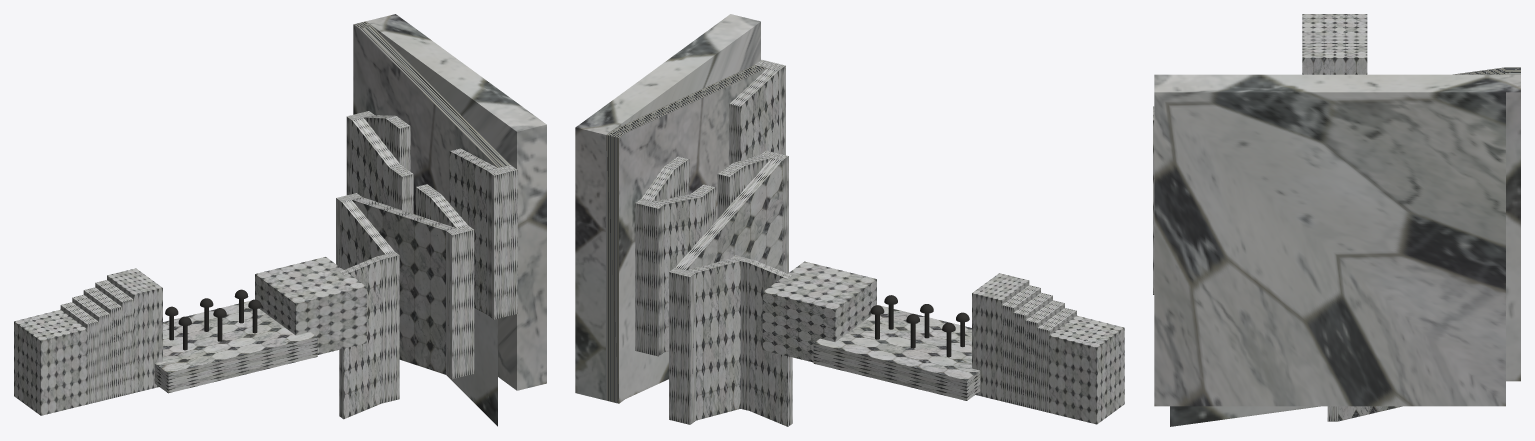
The model's file is Map10.obj.
The picture shows the model from 3 angles, left to right: view 1: azimuth 30°, elevation 25°; view 2: azimuth 150°, elevation 25°; view 3: azimuth 270°, elevation 25°; orthographic projection. The views are drawn at different scales.
Size of the model in its own units: 115 by 77.71 by 67.85.
2 materials, 2 textured.
